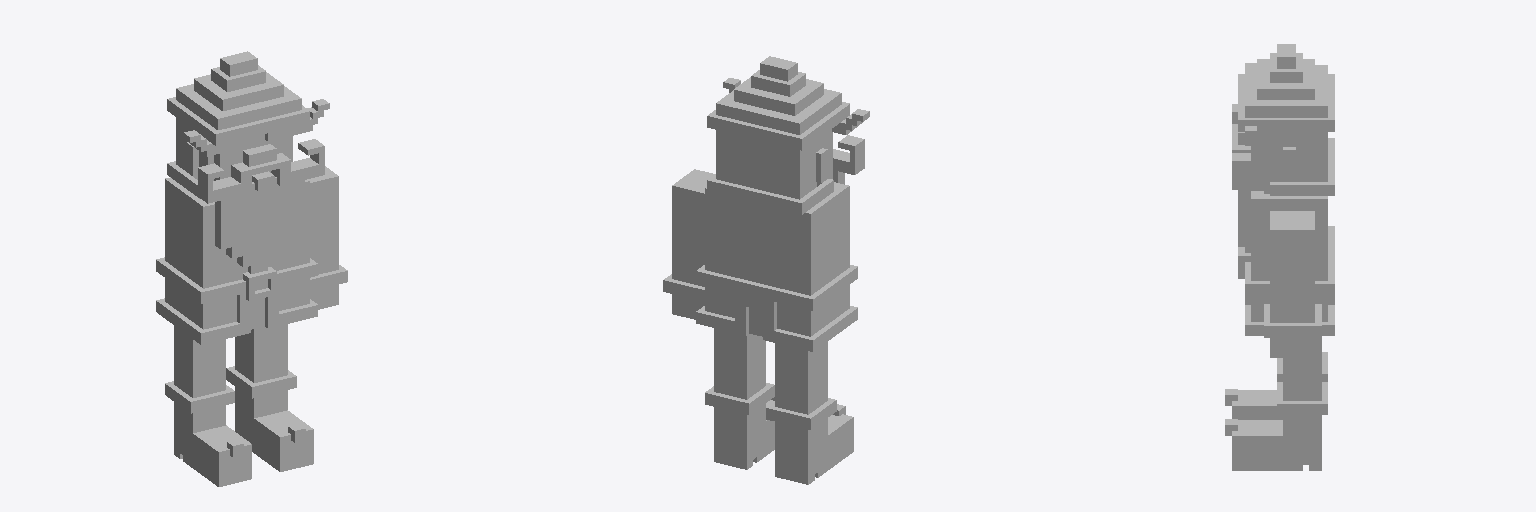
The model's file is GrandpaFrost-2.obj.
3 views of the same model, side by side, from view 1: azimuth 30°, elevation 25°; view 2: azimuth 150°, elevation 25°; view 3: azimuth 270°, elevation 25° (orthographic).
Visible parts, largest first — view 1: object 1; view 2: object 1; view 3: object 1.
Part boxes in pixels (x1,y1,x2,y2): object 1: (156, 51, 347, 486); object 1: (663, 56, 869, 484); object 1: (1225, 44, 1334, 470).
Bounding box in the file's own units: 3 × 6.8 × 1.7.